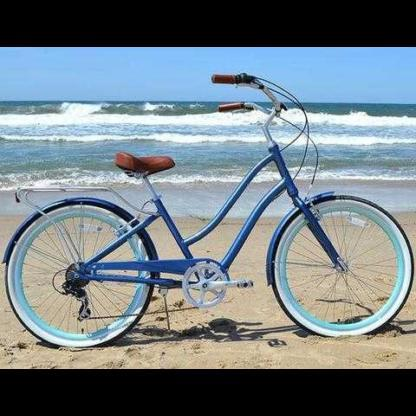Bicycle: (2, 61, 415, 358)
